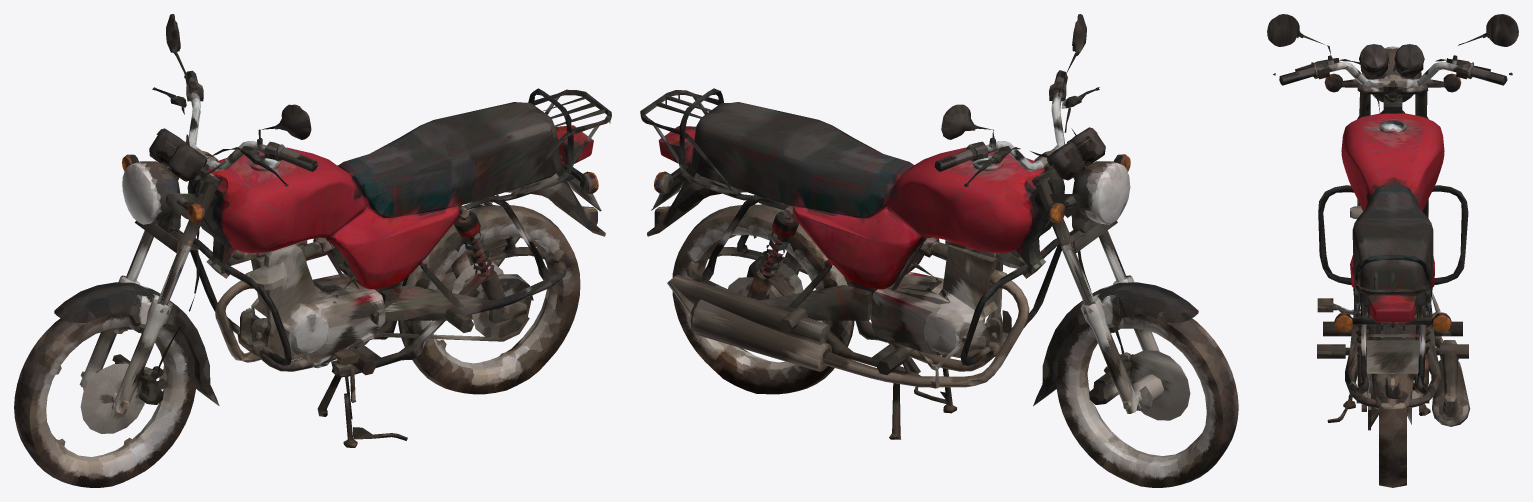
File: red_motorcycle.glb
3 renders of one model, left to right at view 1: azimuth 30°, elevation 25°; view 2: azimuth 150°, elevation 25°; view 3: azimuth 270°, elevation 25°, orthographic. The views are drawn at different scales.
Size of the model in its own units: 0.9995 by 0.647 by 0.4163.
1 material, 1 textured.
